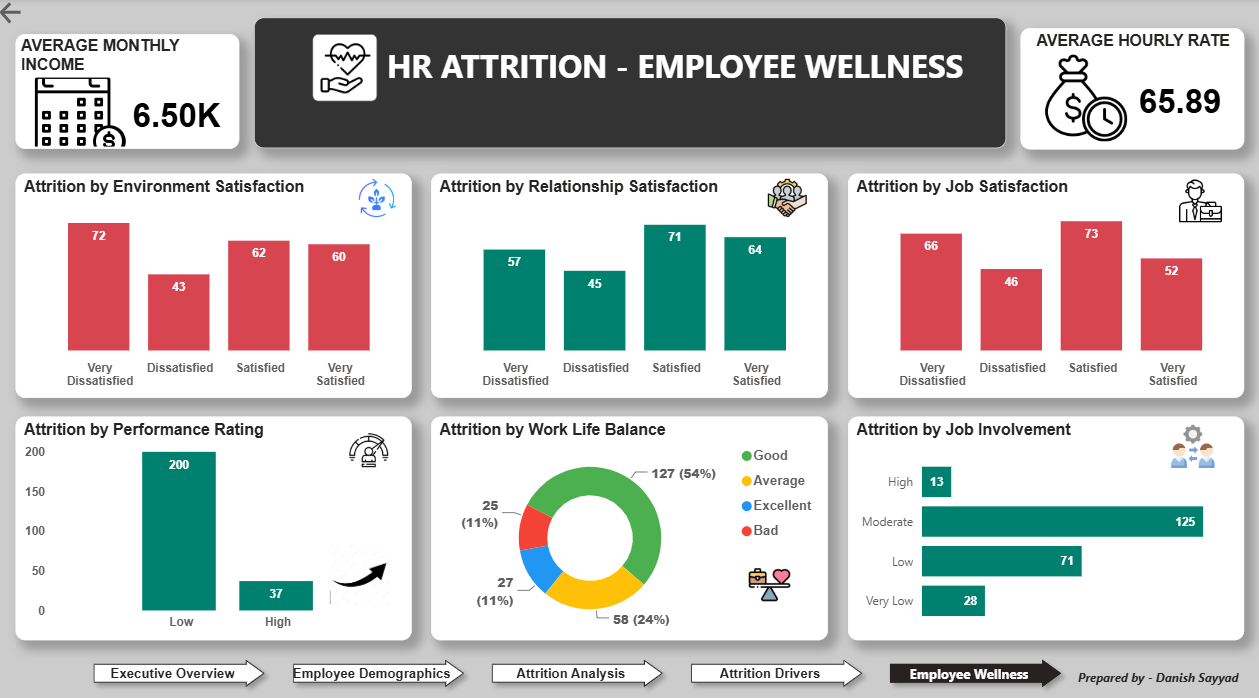

This screenshot's page, from the dashboard's own definition file:
{"tool":"powerbi","page":{"name":"Employee Wellness","canvas":[1280,720],"ordinal":4},"visuals":[{"type":"textbox","box":[260.7,19.5,759,132.1],"z":0},{"type":"image","box":[319.5,36.3,65.1,68.1],"z":1000},{"type":"cardVisual","title":"AVERAGE MONTHLY INCOME","fields":{"Data":["Avg(HR-Employee-Attrition.MonthlyIncome)"]},"box":[20.4,36.4,226.1,116.2],"z":2000},{"type":"cardVisual","title":"AVERAGE HOURLY RATE","fields":{"Data":["Avg(HR-Employee-Attrition.HourlyRate)"]},"box":[1033.9,30.1,226.1,122.4],"z":3000},{"type":"columnChart","title":"Attrition by Environment Satisfaction","fields":{"Y":["Sum(HR-Employee-Attrition.Attrition Count)"],"Category":["HR-Employee-Attrition.EnvironmentSatisfaction (groups)"]},"box":[20.4,177.3,399.9,227],"z":4000},{"type":"columnChart","title":"Attrition by Relationship Satisfaction","fields":{"Y":["Sum(HR-Employee-Attrition.Attrition Count)"],"Category":["HR-Employee-Attrition.RelationshipSatisfaction (groups)"]},"box":[438.9,177.3,400.8,227],"z":5000},{"type":"columnChart","title":"Attrition by Job Satisfaction","fields":{"Y":["Sum(HR-Employee-Attrition.Attrition Count)"],"Category":["HR-Employee-Attrition.JobSatisfaction (groups)"]},"box":[860.1,177.3,399.9,227],"z":6000},{"type":"donutChart","title":"Attrition by Work Life Balance","fields":{"Category":["HR-Employee-Attrition.WorkLifeBalance (groups)"],"Y":["Sum(HR-Employee-Attrition.Attrition Count)"]},"box":[439.8,422.1,400.8,226.1],"z":7000},{"type":"image","box":[745.9,565.6,69.3,51.9],"z":8000},{"type":"image","box":[1179.3,177.3,72.7,55],"z":9000},{"type":"columnChart","title":"Attrition by Performance Rating","fields":{"Category":["HR-Employee-Attrition.PerformanceRating (groups)"],"Y":["Sum(HR-Employee-Attrition.Attrition Count)"]},"box":[20.4,422.1,399.9,226.1],"z":10000},{"type":"image","box":[756.4,177.3,83.3,48.8],"z":11000},{"type":"barChart","title":"Attrition by Job Involvement","fields":{"Category":["HR-Employee-Attrition.JobInvolvement (groups)"],"Y":["Sum(HR-Employee-Attrition.Attrition Count)"]},"box":[860.1,422.1,399.9,226.1],"z":12000},{"type":"image","box":[1179.3,423.8,56.7,56.7],"z":13000},{"type":"image","box":[360,177.3,48.8,48.8],"z":14000},{"type":"image","box":[323.6,547.1,85.1,70.9],"z":15000},{"type":"image","box":[352,430.9,49.7,49.7],"z":16000},{"type":"pageNavigator","box":[89.3,658.7,997.9,46.9],"z":17000},{"type":"actionButton","box":[0,0,69.2,30.1],"z":18000},{"type":"textbox","box":[1087.2,670.8,172.6,34.8],"z":18001}]}

Visuals, with their boxes in screenshot pixels (x1, y1, x2, y2), scaled from the page's 1280x720 canvas onto the 1259x698 screenshot:
textbox: left=256, top=19, right=1003, bottom=147
image: left=314, top=35, right=378, bottom=101
"AVERAGE MONTHLY INCOME" cardVisual: left=20, top=35, right=242, bottom=148
"AVERAGE HOURLY RATE" cardVisual: left=1017, top=29, right=1239, bottom=148
"Attrition by Environment Satisfaction" columnChart: left=20, top=172, right=413, bottom=392
"Attrition by Relationship Satisfaction" columnChart: left=432, top=172, right=826, bottom=392
"Attrition by Job Satisfaction" columnChart: left=846, top=172, right=1239, bottom=392
"Attrition by Work Life Balance" donutChart: left=433, top=409, right=827, bottom=628
image: left=734, top=548, right=802, bottom=599
image: left=1160, top=172, right=1231, bottom=225
"Attrition by Performance Rating" columnChart: left=20, top=409, right=413, bottom=628
image: left=744, top=172, right=826, bottom=219
"Attrition by Job Involvement" barChart: left=846, top=409, right=1239, bottom=628
image: left=1160, top=411, right=1216, bottom=466
image: left=354, top=172, right=402, bottom=219
image: left=318, top=530, right=402, bottom=599
image: left=346, top=418, right=395, bottom=466
pageNavigator: left=88, top=639, right=1069, bottom=684
actionButton: left=0, top=0, right=68, bottom=29
textbox: left=1069, top=650, right=1239, bottom=684
